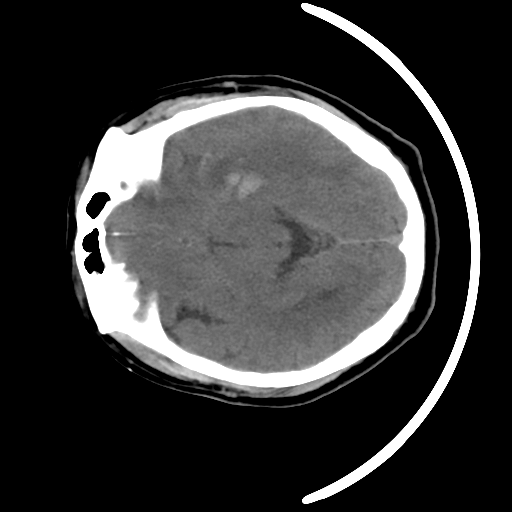a: (201, 150, 278, 207)
